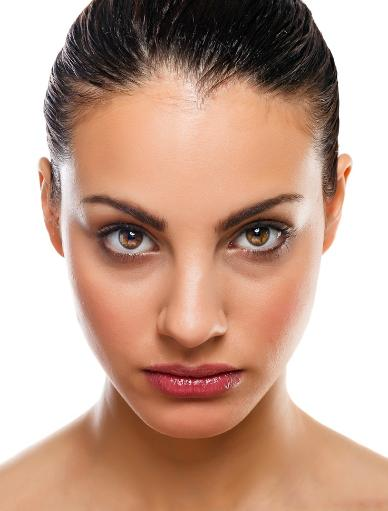left_eye: (226, 221, 292, 263)
left_lip_corner: (235, 363, 253, 382)
right_eye: (95, 225, 166, 266)
right_lip_corner: (137, 362, 154, 384)
